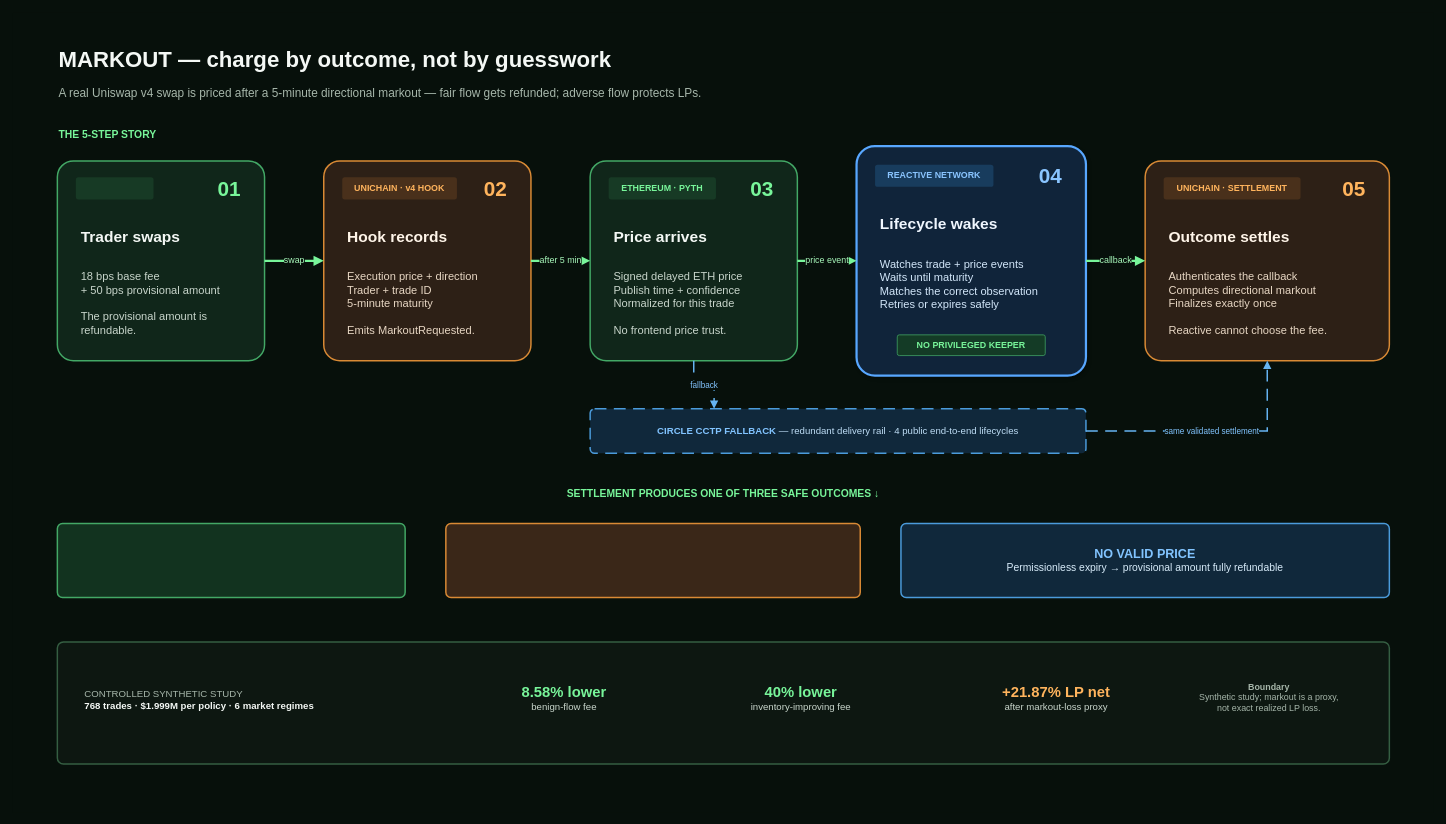
This 1446x824 diagram has some shape labels left out. Here are the shapes that lost their labels. From the top down, the centre of each, then its label:
At point (114, 188): "FRONTEND".
At point (231, 560): "FAIR FLOW Refund → effective fee can fall to 18 bps".
At point (653, 560): "ADVERSE FLOW Part of provisional amount → LP protection reserve".
